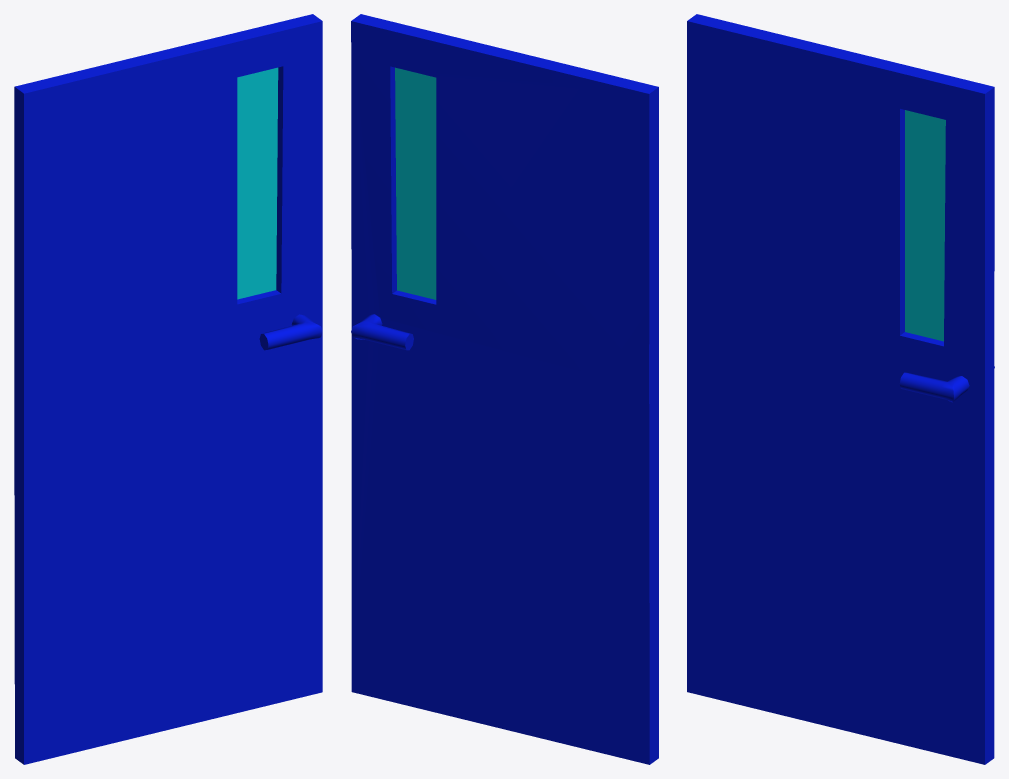
The model's file is Deur met 1 raam.fbx.
3 renders of one model, left to right at view 1: azimuth 30°, elevation 25°; view 2: azimuth 150°, elevation 25°; view 3: azimuth 330°, elevation 25°, orthographic.
Visible parts, largest first — view 1: Deur(1 Raam), Deur(1 Raam)Raam; view 2: Deur(1 Raam), Deur(1 Raam)Raam; view 3: Deur(1 Raam), Deur(1 Raam)Raam.
Part boxes in pixels (x1,y1,x2,y2): Deur(1 Raam): (14, 14, 322, 764); Deur(1 Raam)Raam: (237, 67, 278, 299); Deur(1 Raam): (351, 14, 658, 764); Deur(1 Raam)Raam: (395, 67, 436, 299); Deur(1 Raam): (687, 14, 994, 764); Deur(1 Raam)Raam: (905, 110, 945, 341).
Bounding box in the file's own units: 92.98 × 200 × 22.21.
